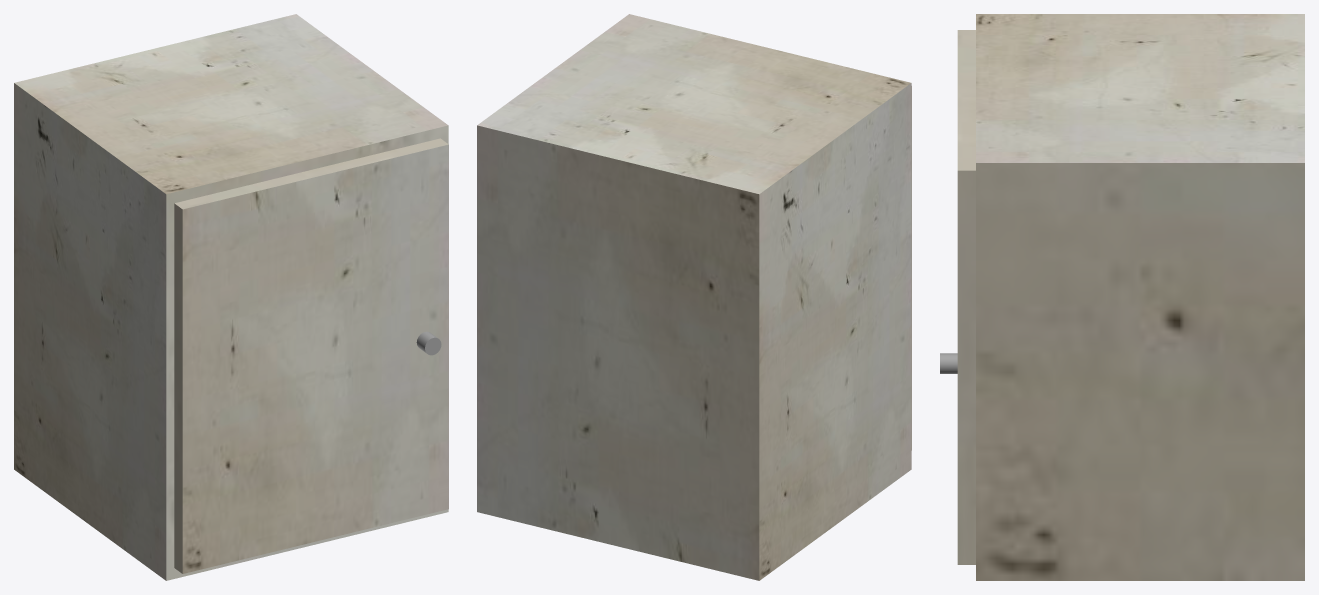
Rendered from armarios hospital pequenos.fbx.
3 views of the same model, side by side, from view 1: azimuth 30°, elevation 25°; view 2: azimuth 150°, elevation 25°; view 3: azimuth 270°, elevation 25° (orthographic). The views are drawn at different scales.
Visible parts, largest first — view 1: pCube414; view 2: pCube414; view 3: pCube414.
Part boxes in pixels (x1,y1,x2,y2): pCube414: (14,14,448,580); pCube414: (477,14,911,580); pCube414: (957,14,1304,580).
Bounding box in the file's own units: 3.43 × 4.5 × 3.56.
